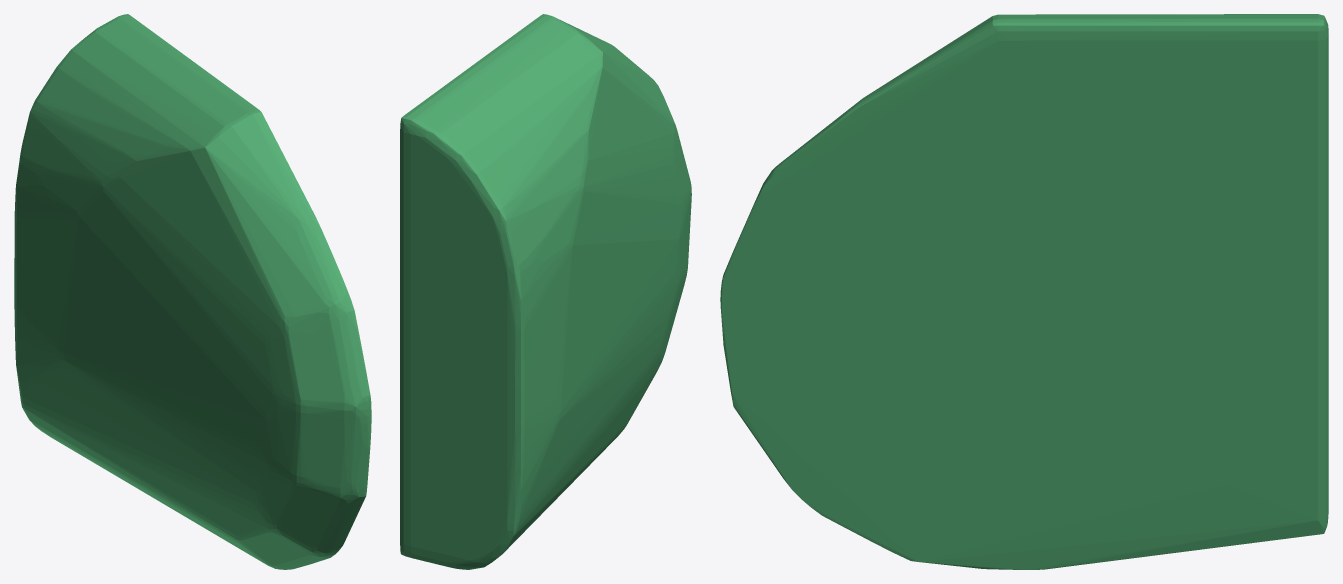
The model's file is left_f_proximal_part_3.obj.
The picture shows the model from 3 angles, left to right: view 1: azimuth 30°, elevation 25°; view 2: azimuth 150°, elevation 25°; view 3: azimuth 270°, elevation 25°; orthographic projection. The views are drawn at different scales.
Bounding box in the file's own units: 4.04 × 14.74 × 14.9.
